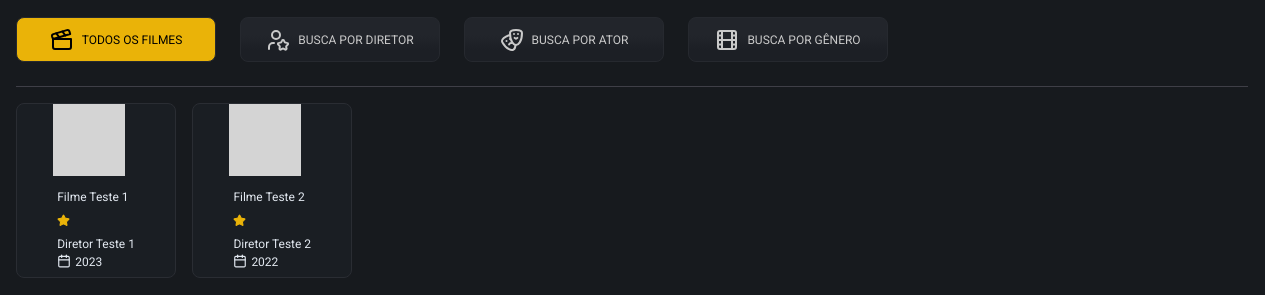
Test: Home Page › deve mostrar botões de gênero quando buscar por gênero
Click the button "BUSCA POR GÊNERO" at (788, 40), box [688, 17, 888, 62]
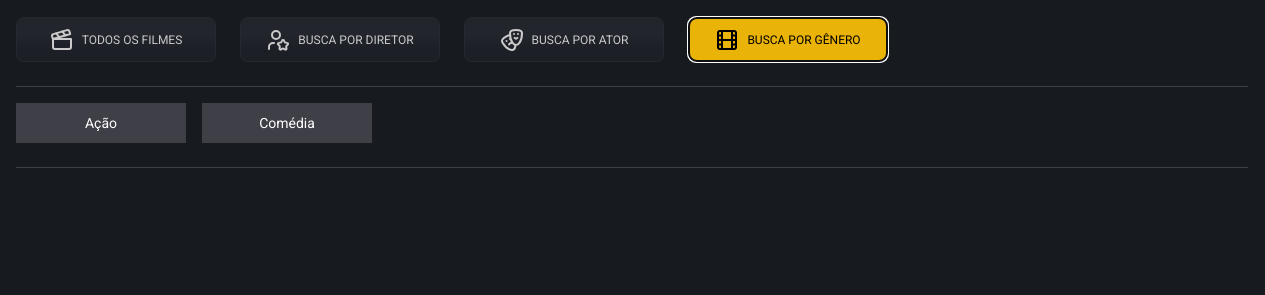
expect the button "Ação" is shown: met, box [16, 103, 186, 143]
expect the button "Comédia" is shown: met, box [202, 103, 372, 143]
